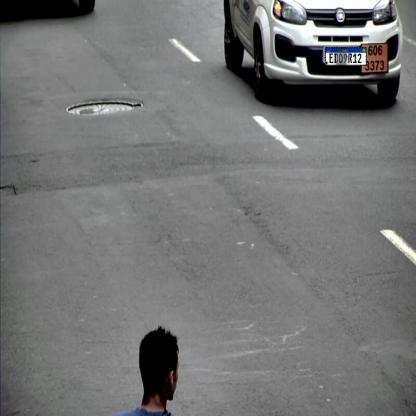PlacaM: (325, 47, 367, 66)
